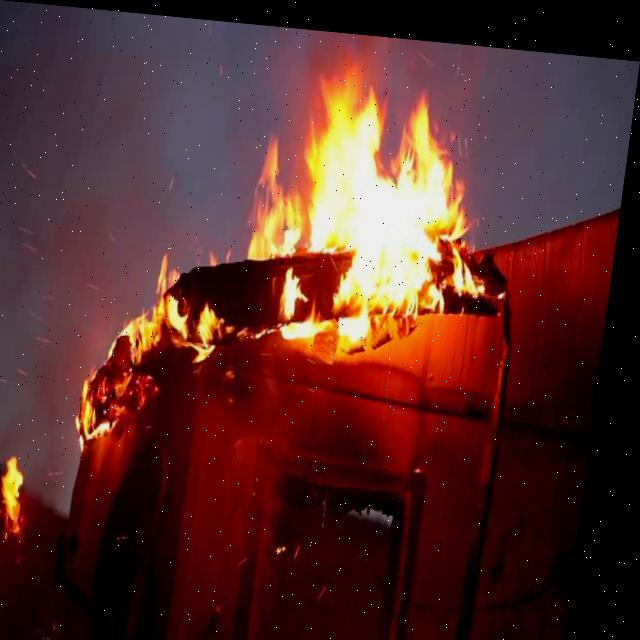Fire: (58, 25, 546, 475), (0, 432, 70, 560)
